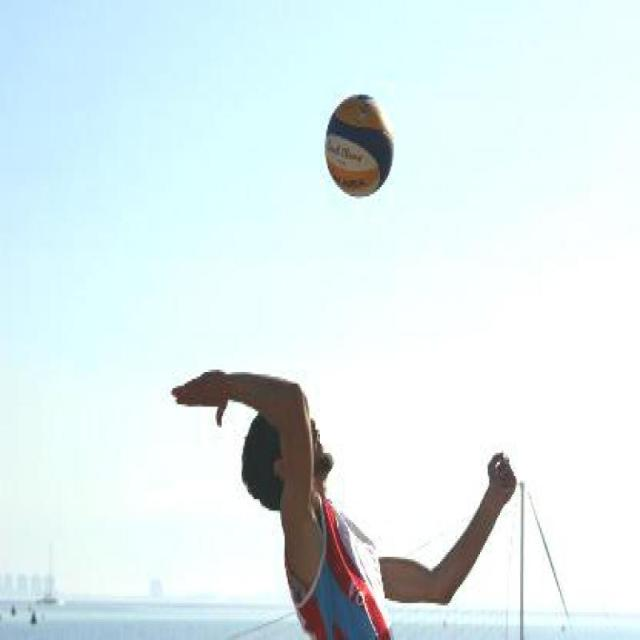volleyball: (324, 88, 396, 196)
